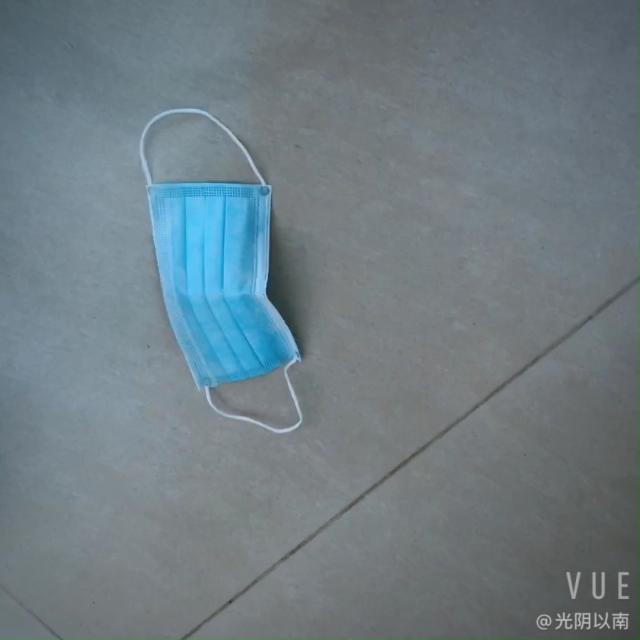non-organic waste: (133, 125, 285, 392)
